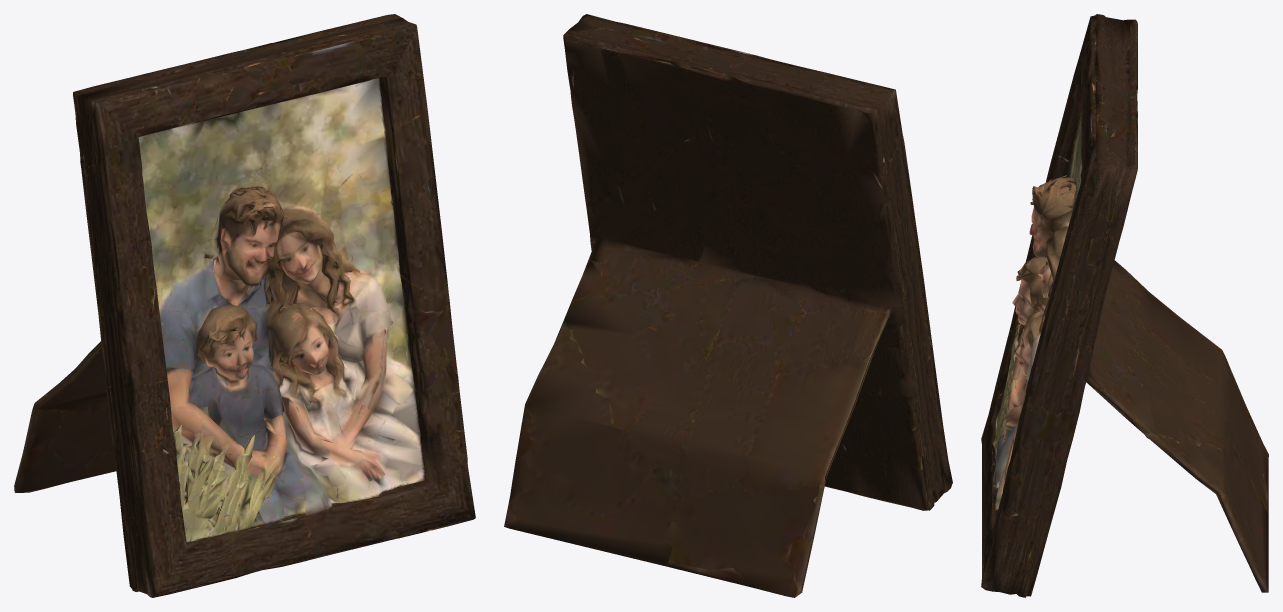
File: mobile.glb
3 views of the same model, side by side, from view 1: azimuth 30°, elevation 25°; view 2: azimuth 150°, elevation 25°; view 3: azimuth 270°, elevation 25° (orthographic). The views are drawn at different scales.
Parts seen in each view (by area): view 1: d-photoframe; view 2: d-photoframe; view 3: d-photoframe.
Boxes of the visible parts, x1,y1,x2,y2 form: d-photoframe: [14, 14, 475, 597]; d-photoframe: [504, 14, 952, 597]; d-photoframe: [981, 14, 1268, 597].
Bounding box in the file's own units: 0.1325 × 0.1808 × 0.1078.
1 material, 1 textured.
